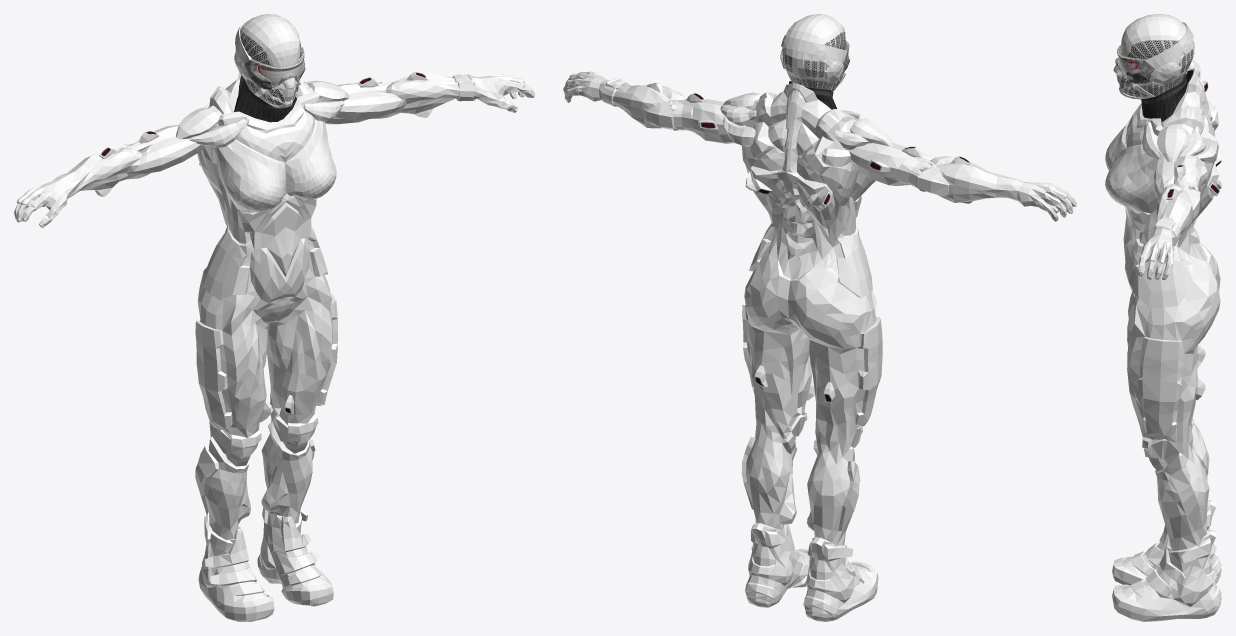
Rendered from Nanosuit_Female.obj.
3 renders of one model, left to right at view 1: azimuth 30°, elevation 25°; view 2: azimuth 150°, elevation 25°; view 3: azimuth 270°, elevation 25°, orthographic.
Visible parts, largest first — view 1: Nanosuit_Female_Nanosuit_Female_Body_female, Nanohelmet_female_Nanohelmet_female_Helmet_female, NanaoMaskF_NanaoMaskF_NanoMaskF, Nanosuit_Female_Nanosuit_Female_Neck_female; view 2: Nanosuit_Female_Nanosuit_Female_Body_female, Nanohelmet_female_Nanohelmet_female_Helmet_female, NanaoMaskF_NanaoMaskF_NanoMaskF; view 3: Nanosuit_Female_Nanosuit_Female_Body_female, Nanohelmet_female_Nanohelmet_female_Helmet_female, NanaoMaskF_NanaoMaskF_NanoMaskF, Nanosuit_Female_Nanosuit_Female_Neck_female.
Part boxes in pixels (x1,y1,x2,y2): Nanosuit_Female_Nanosuit_Female_Body_female: [14, 72, 534, 621]; Nanohelmet_female_Nanohelmet_female_Helmet_female: [234, 14, 300, 108]; NanaoMaskF_NanaoMaskF_NanoMaskF: [235, 19, 305, 89]; Nanosuit_Female_Nanosuit_Female_Neck_female: [234, 75, 296, 122]; Nanosuit_Female_Nanosuit_Female_Body_female: [563, 71, 1076, 621]; Nanohelmet_female_Nanohelmet_female_Helmet_female: [780, 14, 845, 91]; NanaoMaskF_NanaoMaskF_NanoMaskF: [781, 35, 849, 71]; Nanosuit_Female_Nanosuit_Female_Body_female: [1105, 59, 1221, 621]; Nanohelmet_female_Nanohelmet_female_Helmet_female: [1113, 14, 1194, 99]; NanaoMaskF_NanaoMaskF_NanoMaskF: [1115, 22, 1193, 83]; Nanosuit_Female_Nanosuit_Female_Neck_female: [1141, 70, 1193, 123].
Bounding box in the file's own units: 3.37 × 3.67 × 0.6663.
Materials: 5 (5 with a texture image).
